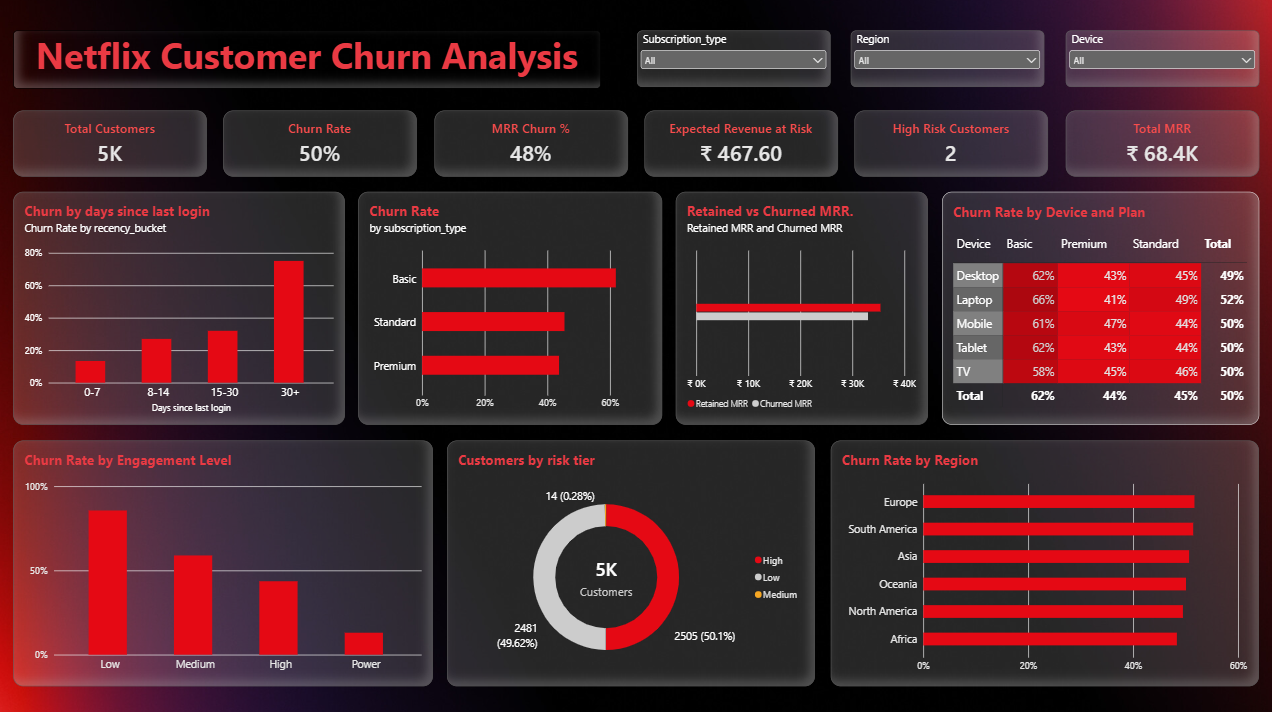

Layout of this report page (visuals, bound fields, positions):
{"tool":"powerbi","page":{"name":"Executive Summary","canvas":[1920,1080],"ordinal":0},"visuals":[{"type":"textbox","box":[23.5,48.9,881.3,86.9],"z":1000},{"type":"clusteredBarChart","fields":{"Category":["churn_scored.subscription_type"],"Y":["Save Rate.Churn Rate"]},"box":[541.1,291.4,456,349.3],"z":2000},{"type":"clusteredBarChart","title":"Churn Rate by Region","fields":{"Category":["churn_scored.region"],"Y":["Save Rate.Churn Rate"]},"box":[1250.5,664.1,642.4,369.2],"z":3000},{"type":"slicer","fields":{"Values":["churn_scored.subscription_type"]},"box":[960.2,48.8,290,85],"z":4000},{"type":"slicer","fields":{"Values":["churn_scored.region"]},"box":[1281.8,48.8,290,85],"z":5000},{"type":"slicer","fields":{"Values":["churn_scored.device"]},"box":[1603.4,48.8,290,85],"z":6000},{"type":"clusteredColumnChart","title":"Churn by days since last login","fields":{"Category":["churn_scored.recency_bucket"],"Y":["Save Rate.Churn Rate"]},"box":[23.5,291.4,497.7,349.3],"z":7000},{"type":"clusteredColumnChart","title":"Churn Rate by Engagement Level","fields":{"Category":["churn_scored.engagement_band"],"Y":["Save Rate.Churn Rate"]},"box":[23.5,664.1,629.8,369.2],"z":8000},{"type":"pivotTable","title":"Churn Rate by Device and Plan","fields":{"Columns":["churn_scored.subscription_type"],"Rows":["churn_scored.device"],"Values":["Save Rate.Churn Rate"]},"box":[1417,291.4,475.9,349.3],"z":9000},{"type":"donutChart","title":"Customers by risk tier","fields":{"Category":["churn_scored.risk_tier"],"Y":["churn_scored.Customers"]},"box":[675,664.1,551.9,369.2],"z":10000},{"type":"cardVisual","fields":{"Data":["churn_scored.Customers"]},"box":[23.5,168.3,290,99.5],"z":11000},{"type":"actionButton","box":[0,0,100,40],"z":12000},{"type":"clusteredBarChart","title":"Retained vs Churned MRR.","fields":{"Y":["churn_scored.Retained MRR","churn_scored.Churned MRR"]},"box":[1018.8,291.4,378.2,349.3],"z":13000},{"type":"cardVisual","fields":{"Data":["Save Rate.Churn Rate"]},"box":[339.5,168.3,290,99.5],"z":14000},{"type":"cardVisual","fields":{"Data":["Save Rate.MRR Churn %"]},"box":[655.5,168.3,290,99.5],"z":15000},{"type":"cardVisual","fields":{"Data":["Save Rate.Expected Loss (Active)"]},"box":[971.4,168.3,290,99.5],"z":16000},{"type":"cardVisual","fields":{"Data":["churn_scored.High Risk Customers"]},"box":[1287.4,168.3,290,99.5],"z":17000},{"type":"cardVisual","fields":{"Data":["churn_scored.Total MRR"]},"box":[1603.4,168.3,290,99.5],"z":18000}]}

Visuals, with their boxes in screenshot pixels (x1, y1, x2, y2), scaled from the page's 1920x1080 canvas onto the 1272x712 screenshot:
textbox: <box>16,32,599,90</box>
clusteredBarChart - churn_scored.subscription_type x Save Rate.Churn Rate: <box>358,192,661,422</box>
"Churn Rate by Region" clusteredBarChart: <box>828,438,1254,681</box>
slicer - churn_scored.subscription_type: <box>636,32,828,88</box>
slicer - churn_scored.region: <box>849,32,1041,88</box>
slicer - churn_scored.device: <box>1062,32,1254,88</box>
"Churn by days since last login" clusteredColumnChart: <box>16,192,345,422</box>
"Churn Rate by Engagement Level" clusteredColumnChart: <box>16,438,433,681</box>
"Churn Rate by Device and Plan" pivotTable: <box>939,192,1254,422</box>
"Customers by risk tier" donutChart: <box>447,438,813,681</box>
cardVisual - churn_scored.Customers: <box>16,111,208,177</box>
actionButton: <box>0,0,66,26</box>
"Retained vs Churned MRR." clusteredBarChart: <box>675,192,926,422</box>
cardVisual - Save Rate.Churn Rate: <box>225,111,417,177</box>
cardVisual - Save Rate.MRR Churn %: <box>434,111,626,177</box>
cardVisual - Save Rate.Expected Loss (Active): <box>644,111,836,177</box>
cardVisual - churn_scored.High Risk Customers: <box>853,111,1045,177</box>
cardVisual - churn_scored.Total MRR: <box>1062,111,1254,177</box>
